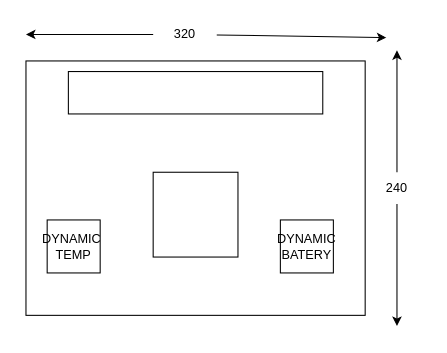
The diagram is 447 pixels wide and 353 high, and some of its shapes have lost their labels. Each missing label, with the box of its shape:
DINAMIC SPEED: (152, 171, 238, 257)
DYNAMIC RPM BAR: (67, 70, 323, 114)
